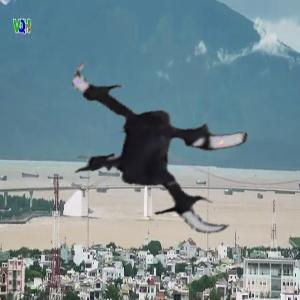drone: (55, 31, 278, 254)
